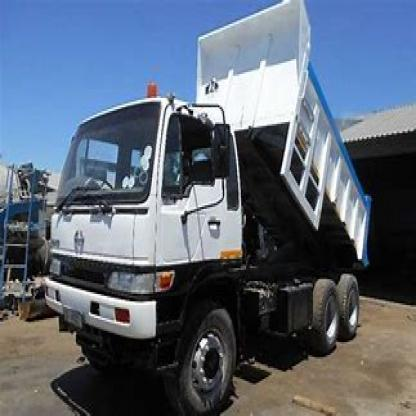dump_truck: (36, 6, 389, 414)
